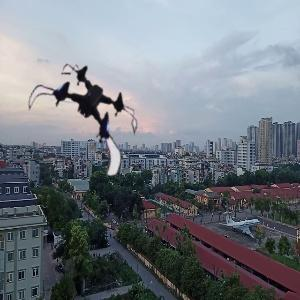drone: (27, 53, 143, 169)
